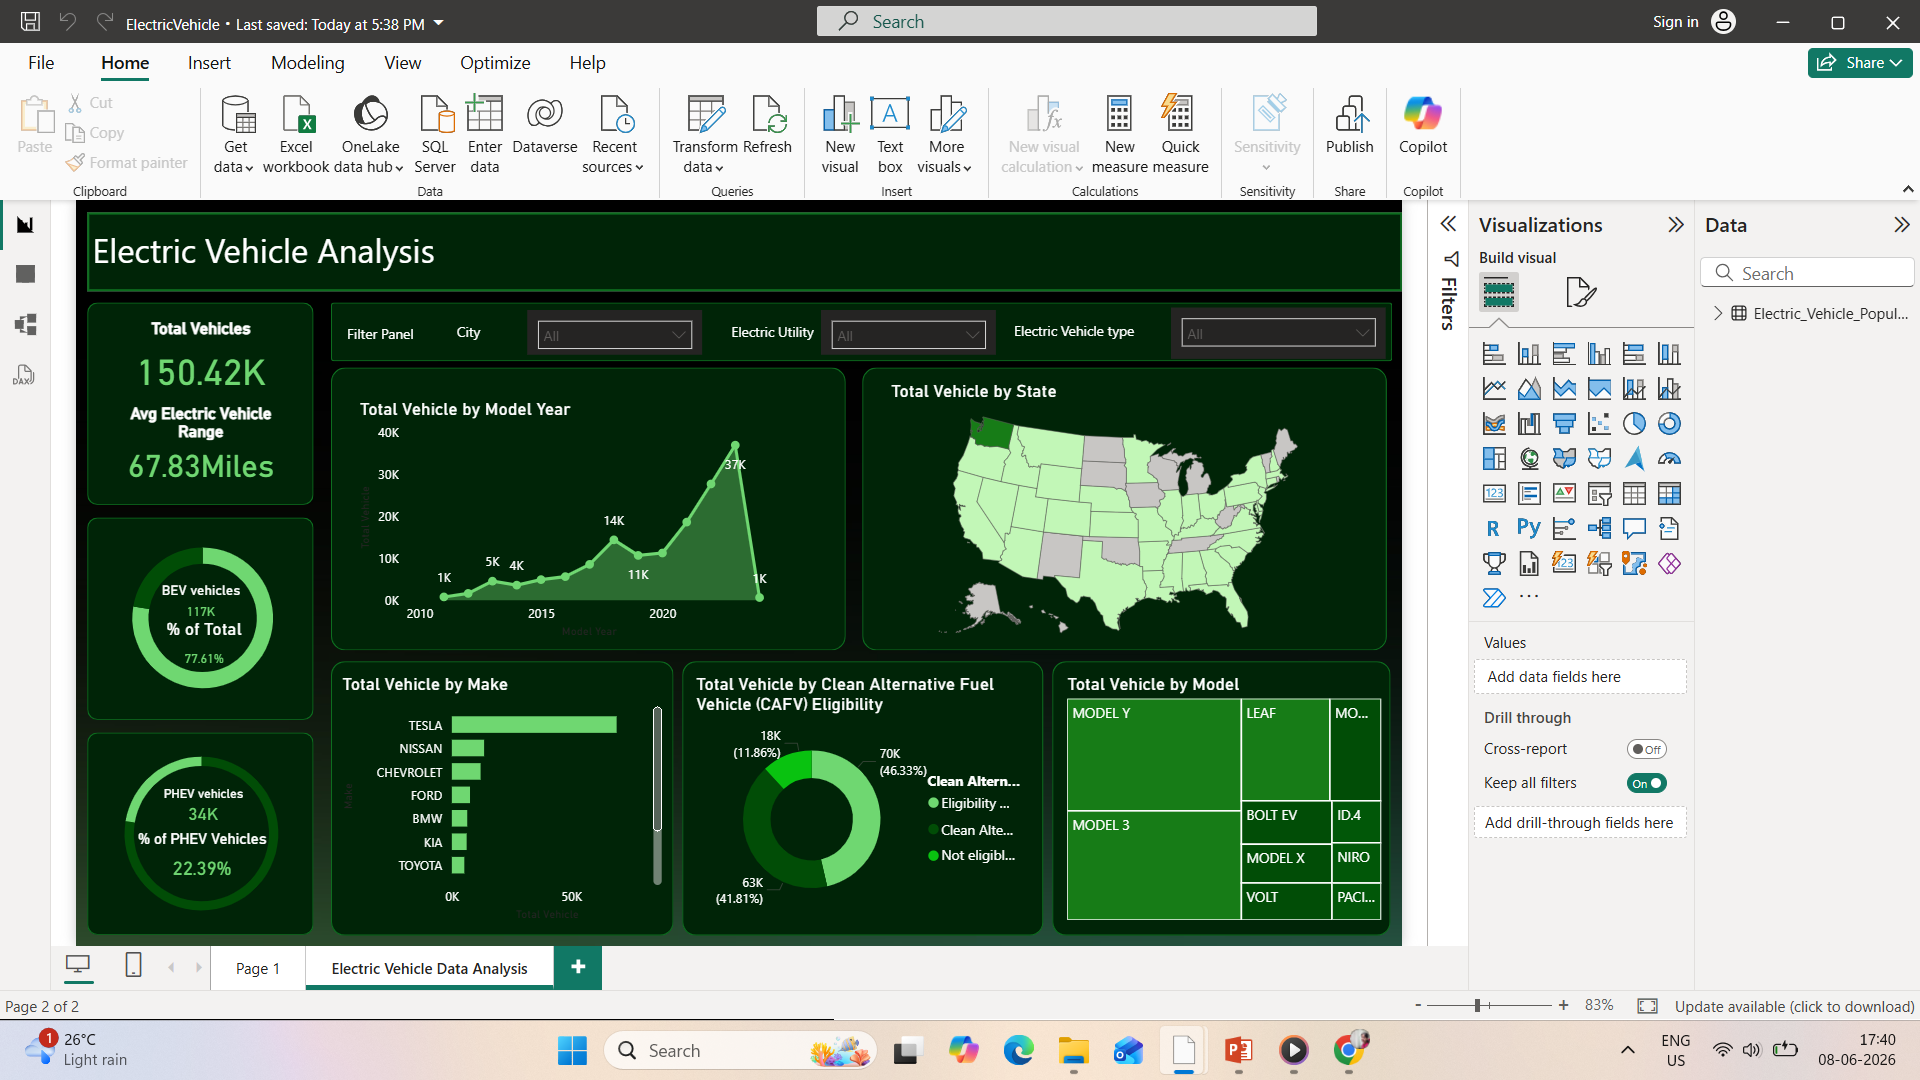

The dashboard page shown, as its layout file describes it:
{"tool":"powerbi","page":{"name":"Electric Vehicle Data Analysis","canvas":[1280,720],"ordinal":1},"visuals":[{"type":"shape","box":[10.9,12.1,1269.2,76],"z":0},{"type":"shape","box":[10.9,98.9,218.4,195.4],"z":1000},{"type":"shape","box":[10.9,513.9,218.4,195.4],"z":2000},{"type":"shape","box":[10.9,306.4,218.4,195.4],"z":3000},{"type":"textbox","box":[10.9,21.7,1269.2,57.9],"z":4000},{"type":"card","title":"Total Vehicles","fields":{"Values":["Electric_Vehicle_Population_Data.Total Vehicle"]},"box":[41,114.6,159.3,82],"z":5000},{"type":"card","title":"Avg Electric  Vehicle Range","fields":{"Values":["Electric_Vehicle_Population_Data.Average Electric Range"]},"box":[41,196.6,159.3,82],"z":6000},{"type":"donutChart","fields":{"Category":["Electric_Vehicle_Population_Data.Electric Vehicle Type"],"Y":["Electric_Vehicle_Population_Data.Total Vehicle"]},"box":[15.7,313.7,213.5,179.8],"z":7000},{"type":"donutChart","fields":{"Category":["Electric_Vehicle_Population_Data.Electric Vehicle Type"],"Y":["Electric_Vehicle_Population_Data.Total Vehicle"]},"box":[13.3,513.9,216,195.4],"z":8000},{"type":"card","title":"BEV vehicles","fields":{"Values":["Electric_Vehicle_Population_Data.BEV vehicle"]},"box":[73.6,369.2,94.1,44.6],"z":9000},{"type":"card","title":"% of Total","fields":{"Values":["Electric_Vehicle_Population_Data.% of BEV vehicles"]},"box":[67.6,404.2,112.2,61.5],"z":10000},{"type":"card","title":"PHEV  vehicles","fields":{"Values":["Electric_Vehicle_Population_Data.PHEV Vehicles"]},"box":[62.7,565.8,120.6,42.2],"z":11000},{"type":"card","title":"% of PHEV Vehicles","fields":{"Values":["Electric_Vehicle_Population_Data.% of phev vehicles"]},"box":[51.9,608,139.9,57.9],"z":12000},{"type":"shape","box":[584.6,444.6,348.5,264.8],"z":13000},{"type":"shape","box":[942.7,444.6,326.6,264.8],"z":14000},{"type":"shape","box":[245.6,444.6,330.7,264.8],"z":15000},{"type":"shape","box":[245.6,161.9,496.7,273.1],"z":16000},{"type":"shape","box":[758.8,161.9,506.3,273.1],"z":17000},{"type":"shape","box":[246.1,98.9,1024.3,56.7],"z":18000},{"type":"areaChart","fields":{"Y":["Electric_Vehicle_Population_Data.Total Vehicle"],"Category":["Electric_Vehicle_Population_Data.Model Year"]},"box":[269,192.1,408.9,236],"z":19000},{"type":"shapeMap","fields":{"Value":["Electric_Vehicle_Population_Data.Total Vehicle"],"Category":["Electric_Vehicle_Population_Data.State"]},"box":[782.2,174.3,448.7,260.7],"z":20000},{"type":"donutChart","fields":{"Y":["Electric_Vehicle_Population_Data.Total Vehicle"],"Category":["Electric_Vehicle_Population_Data.Clean Alternative Fuel Vehicle (CAFV) Eligibility"]},"box":[594.2,456.9,329.3,242.9],"z":21000},{"type":"barChart","fields":{"Y":["Electric_Vehicle_Population_Data.Total Vehicle"],"Category":["Electric_Vehicle_Population_Data.Make"]},"box":[252.5,456.9,318.4,242.9],"z":22000},{"type":"treemap","fields":{"Values":["Electric_Vehicle_Population_Data.Total Vehicle"],"Group":["Electric_Vehicle_Population_Data.Model"]},"box":[952.3,456.9,312.9,242.9],"z":23000},{"type":"slicer","fields":{"Values":["Electric_Vehicle_Population_Data.City"]},"box":[435.5,106.2,168.9,43.4],"z":24000},{"type":"slicer","fields":{"Values":["Electric_Vehicle_Population_Data.Electric Utility"]},"box":[719,106.2,168.9,43.4],"z":25000},{"type":"slicer","fields":{"Values":["Electric_Vehicle_Population_Data.Electric Vehicle Type"]},"box":[1056.8,103.8,207.5,49.5],"z":26000},{"type":"textbox","box":[252.1,114.6,83.2,35],"z":27000},{"type":"textbox","box":[335.4,113.4,86.9,29],"z":28000},{"type":"textbox","box":[627.3,113.4,100.1,29],"z":29000},{"type":"textbox","box":[887.9,112.2,150.8,30.2],"z":30000}]}

Visuals, with their boxes on the page's 1280x720 design canvas (x1, y1, x2, y2). These are canvas units, not pixel positions in the 1920x1080 screenshot, which may show the page scaled, cropped or inside an application window:
shape: <box>11,12,1280,88</box>
shape: <box>11,99,229,294</box>
shape: <box>11,514,229,709</box>
shape: <box>11,306,229,502</box>
textbox: <box>11,22,1280,80</box>
"Total Vehicles" card: <box>41,115,200,197</box>
"Avg Electric  Vehicle Range" card: <box>41,197,200,279</box>
donutChart - Electric_Vehicle_Population_Data.Electric Vehicle Type x Electric_Vehicle_Population_Data.Total Vehicle: <box>16,314,229,494</box>
donutChart - Electric_Vehicle_Population_Data.Electric Vehicle Type x Electric_Vehicle_Population_Data.Total Vehicle: <box>13,514,229,709</box>
"BEV vehicles" card: <box>74,369,168,414</box>
"% of Total" card: <box>68,404,180,466</box>
"PHEV  vehicles" card: <box>63,566,183,608</box>
"% of PHEV Vehicles" card: <box>52,608,192,666</box>
shape: <box>585,445,933,709</box>
shape: <box>943,445,1269,709</box>
shape: <box>246,445,576,709</box>
shape: <box>246,162,742,435</box>
shape: <box>759,162,1265,435</box>
shape: <box>246,99,1270,156</box>
areaChart - Electric_Vehicle_Population_Data.Total Vehicle x Electric_Vehicle_Population_Data.Model Year: <box>269,192,678,428</box>
shapeMap - Electric_Vehicle_Population_Data.Total Vehicle x Electric_Vehicle_Population_Data.State: <box>782,174,1231,435</box>
donutChart - Electric_Vehicle_Population_Data.Total Vehicle x Electric_Vehicle_Population_Data.Clean Alternative Fuel Vehicle (CAFV) Eligibility: <box>594,457,924,700</box>
barChart - Electric_Vehicle_Population_Data.Total Vehicle x Electric_Vehicle_Population_Data.Make: <box>252,457,571,700</box>
treemap - Electric_Vehicle_Population_Data.Total Vehicle x Electric_Vehicle_Population_Data.Model: <box>952,457,1265,700</box>
slicer - Electric_Vehicle_Population_Data.City: <box>436,106,604,150</box>
slicer - Electric_Vehicle_Population_Data.Electric Utility: <box>719,106,888,150</box>
slicer - Electric_Vehicle_Population_Data.Electric Vehicle Type: <box>1057,104,1264,153</box>
textbox: <box>252,115,335,150</box>
textbox: <box>335,113,422,142</box>
textbox: <box>627,113,727,142</box>
textbox: <box>888,112,1039,142</box>
